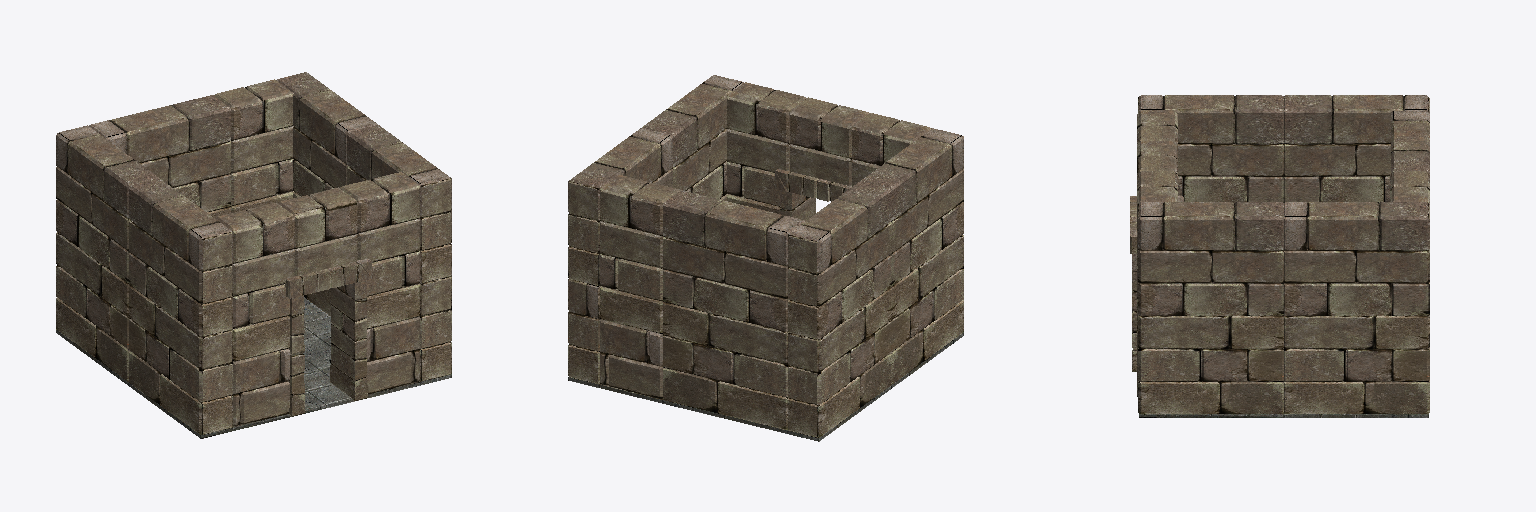
The picture shows the model from 3 angles: view 1: azimuth 30°, elevation 25°; view 2: azimuth 150°, elevation 25°; view 3: azimuth 270°, elevation 25°; orthographic projection.
Visible parts, largest first — view 1: Box3455, Box3456, Box001ui003, Box001ui002, Box3457, Box4132, Box001ui, Box3458, Box4133, Box4135, Box030, Box4137 (+4 smaller); view 2: Box4132, Box3456, Box3455, Box001ui, Box3458, Box001ui002, Box3457, Box4133, Box001ui003, Box4134, Box4135, Box024; view 3: Box3457, Box3458, Box3456, Box3455, Box4132, Box001ui002, Box001ui003, Box001ui, Box4133, Box026, Box030, Box4135.
Boxes of the visible parts, <box> form: Box3455: <box>129,178,232,434</box>; Box3456: <box>56,125,158,381</box>; Box001ui003: <box>215,203,294,427</box>; Box001ui002: <box>340,172,419,394</box>; Box3457: <box>347,125,451,381</box>; Box4132: <box>89,95,230,217</box>; Box001ui: <box>214,79,293,212</box>; Box3458: <box>276,72,377,315</box>; Box4133: <box>278,187,357,275</box>; Box4135: <box>330,280,367,400</box>; Box030: <box>303,333,451,407</box>; Box4137: <box>289,295,304,416</box>; Box4132: <box>663,190,804,429</box>; Box3456: <box>788,181,891,437</box>; Box3455: <box>861,128,963,383</box>; Box001ui: <box>600,175,680,399</box>; Box3458: <box>568,128,672,384</box>; Box001ui002: <box>727,82,806,213</box>; Box3457: <box>642,75,743,200</box>; Box4133: <box>790,97,868,185</box>; Box001ui003: <box>851,113,931,186</box>; Box4134: <box>775,169,818,197</box>; Box4135: <box>780,190,815,220</box>; Box024: <box>694,386,890,441</box>; Box3457: <box>1138,202,1283,414</box>; Box3458: <box>1284,202,1429,414</box>; Box3456: <box>1284,95,1429,202</box>; Box3455: <box>1138,95,1283,202</box>; Box4132: <box>1391,111,1429,173</box>; Box001ui002: <box>1137,171,1177,396</box>; Box001ui003: <box>1137,110,1177,174</box>; Box001ui: <box>1390,171,1429,204</box>; Box4133: <box>1137,141,1176,174</box>; Box026: <box>1283,414,1428,417</box>; Box030: <box>1139,414,1283,417</box>; Box4135: <box>1132,254,1136,371</box>.
Bounding box in the file's own units: 4.04 × 3.08 × 4.16.
2 materials, 2 textured.